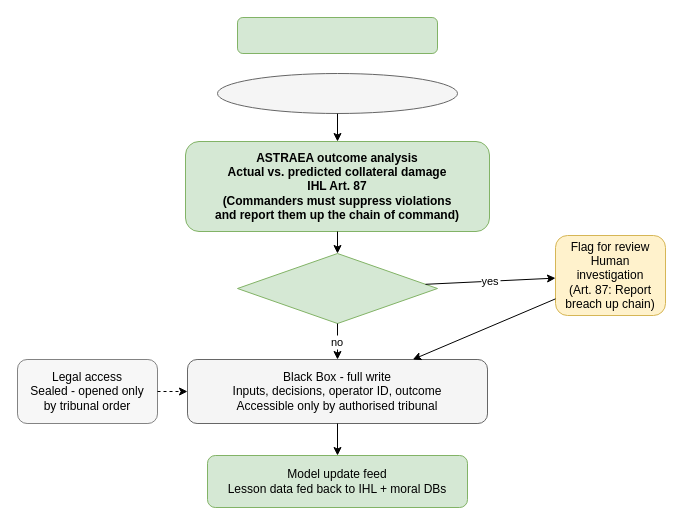
Image size: 683x525. Some labels were removed from this diagram. The shapes that lost their labels are listed below. From the top down, each one's box as (x1, y1, x2, y2) in pixels, then its label:
(236, 16, 438, 54): Stage 5 - Assess
(216, 72, 458, 114): Post-engagement results
(236, 252, 438, 324): Significant deviation?
